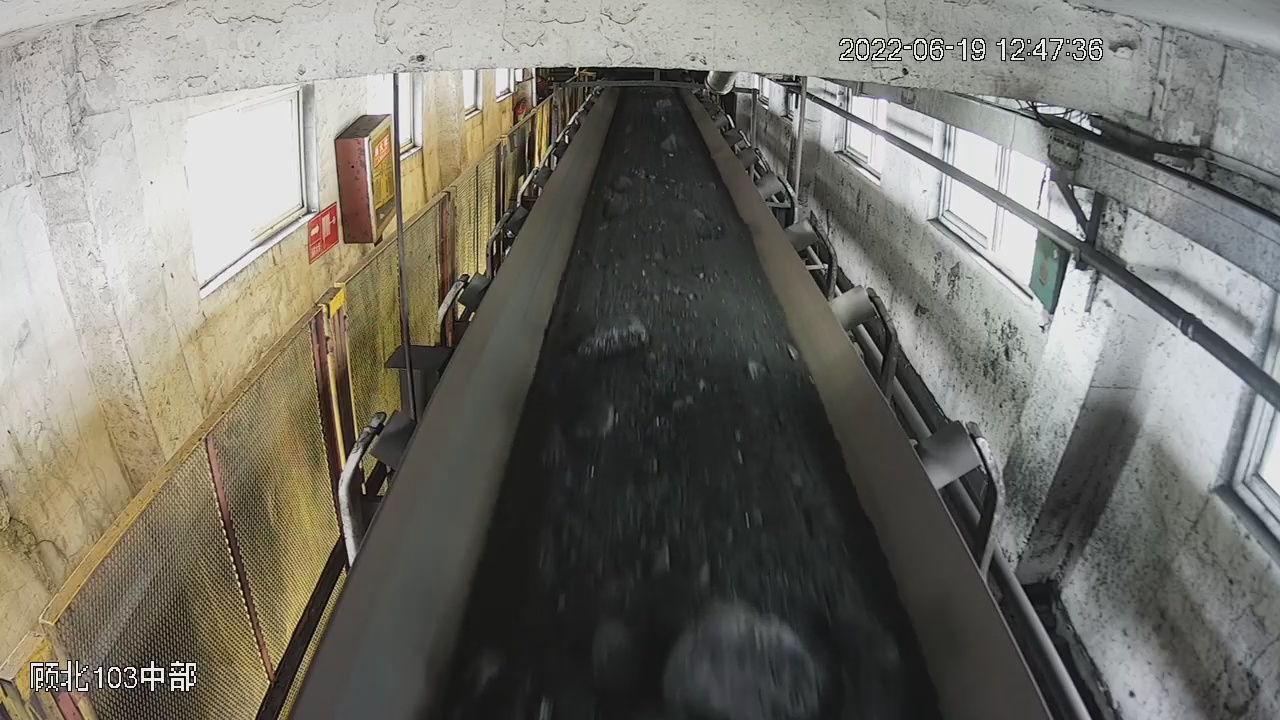gangue: (663, 598, 821, 720), (574, 311, 646, 359), (748, 359, 766, 381), (657, 133, 676, 152), (655, 97, 674, 112), (614, 175, 631, 190)
